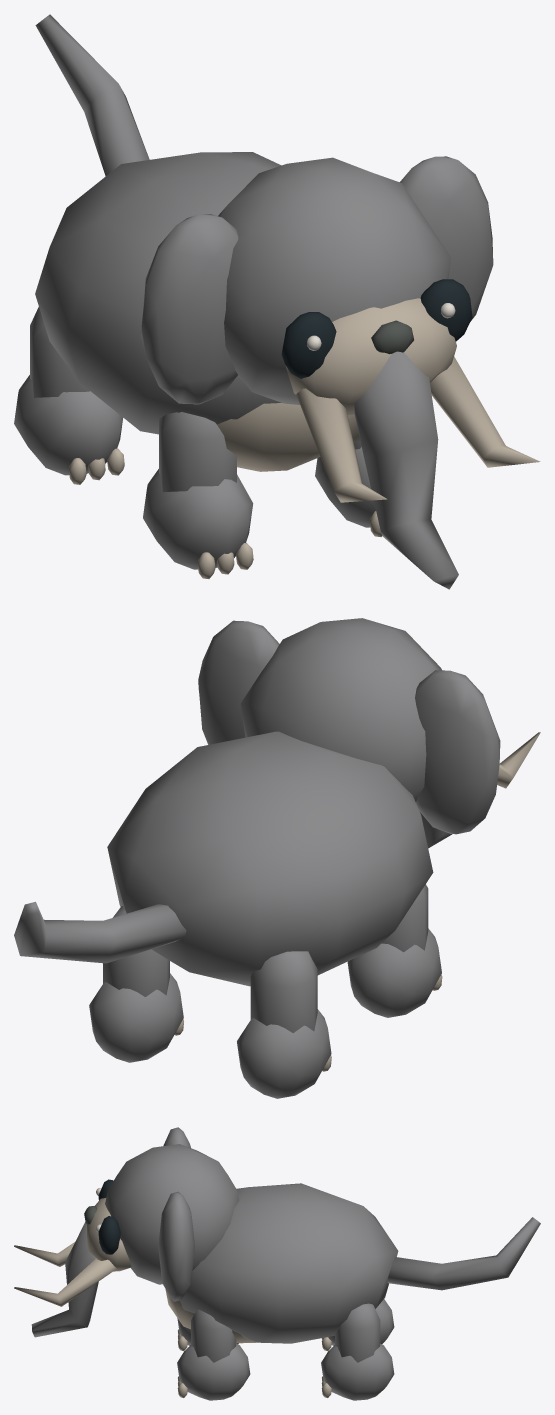
File: org_asianelephant.glb
3 views of the same model, one above another, from view 1: azimuth 30°, elevation 25°; view 2: azimuth 150°, elevation 25°; view 3: azimuth 270°, elevation 25° (orthographic). The views are drawn at different scales.
Visible parts, largest first — view 1: Head, Body, Leg_FR, Leg_BR, Tail, Eye_R, Eye_L, Leg_FL; view 2: Body, Head, Leg_BR, Leg_BL, Leg_FR, Tail; view 3: Body, Head, Leg_BL, Leg_FL, Tail, Eye_L, Leg_BR.
Boxes of the visible parts, left/top/right/bottom form: Head: left=141, top=156, right=540, bottom=589; Body: left=35, top=152, right=360, bottom=471; Leg_FR: left=143, top=412, right=253, bottom=578; Leg_BR: left=14, top=307, right=124, bottom=484; Tail: left=35, top=14, right=149, bottom=176; Eye_R: left=281, top=312, right=336, bottom=378; Eye_L: left=420, top=279, right=472, bottom=341; Leg_FL: left=315, top=440, right=382, bottom=536; Body: left=107, top=731, right=433, bottom=986; Head: left=198, top=618, right=540, bottom=848; Leg_BR: left=237, top=951, right=331, bottom=1098; Leg_BL: left=89, top=906, right=183, bottom=1062; Leg_FR: left=347, top=884, right=442, bottom=1017; Tail: left=14, top=901, right=186, bottom=963; Body: left=165, top=1183, right=398, bottom=1343; Head: left=14, top=1127, right=239, bottom=1337; Leg_BL: left=321, top=1303, right=394, bottom=1400; Leg_FL: left=177, top=1309, right=250, bottom=1400; Tail: left=387, top=1217, right=540, bottom=1290; Eye_L: left=96, top=1216, right=120, bottom=1254; Leg_BR: left=321, top=1299, right=394, bottom=1351.
Size of the model in its own units: 1.03 by 1.12 by 2.4.
